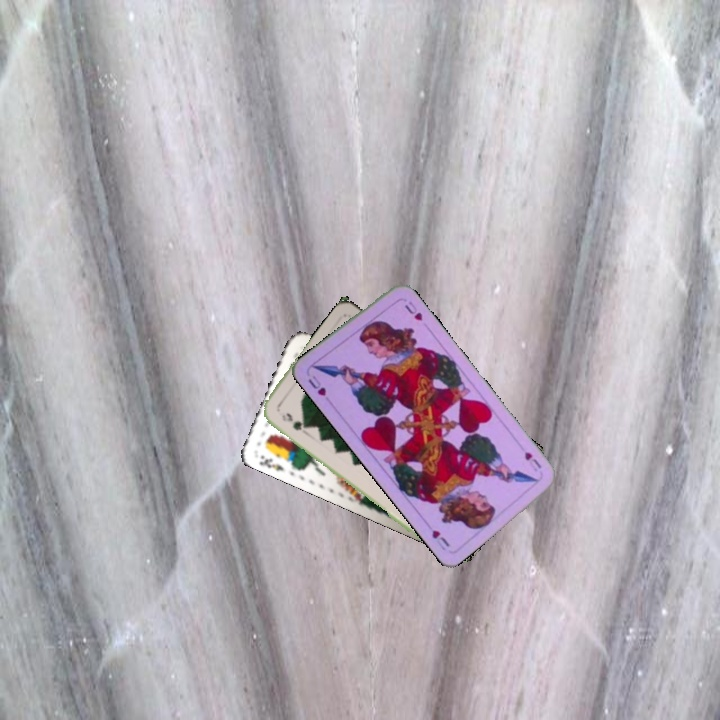EK: (256, 451, 287, 474)
G9: (278, 408, 310, 433)
HU: (304, 371, 329, 399), (520, 447, 544, 471)
